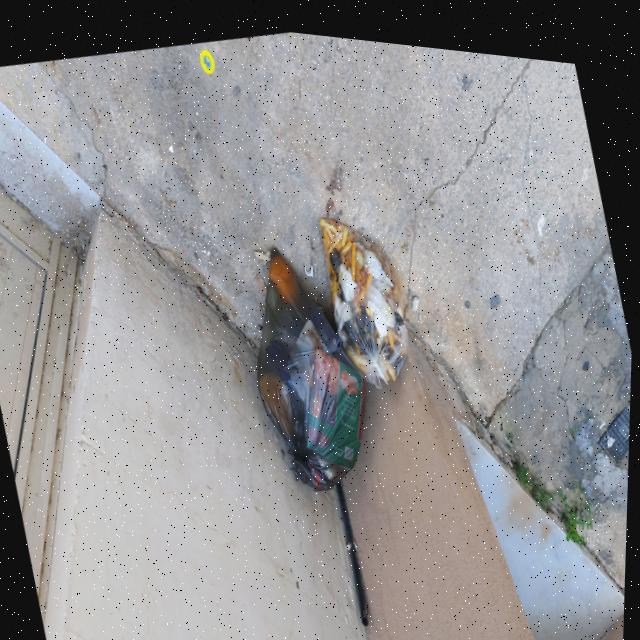Mixed Waste -Black Bag-: (226, 225, 383, 502)
Organic Waste -White Bag-: (311, 194, 425, 388)
